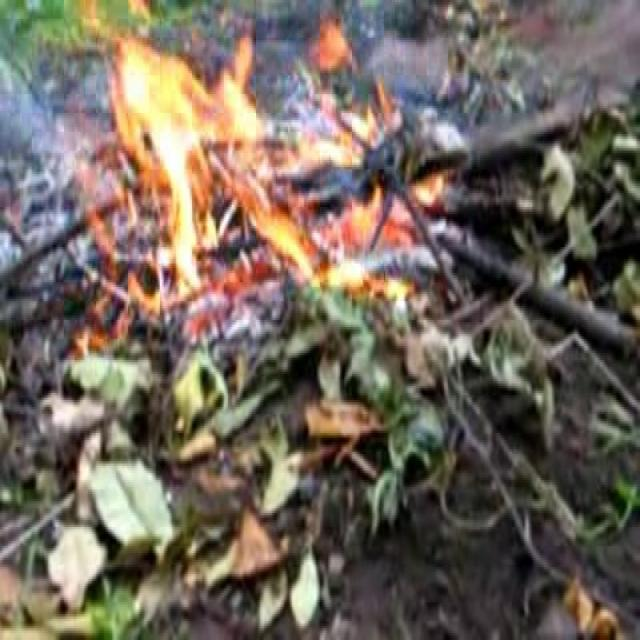Fire: (64, 10, 421, 364)
